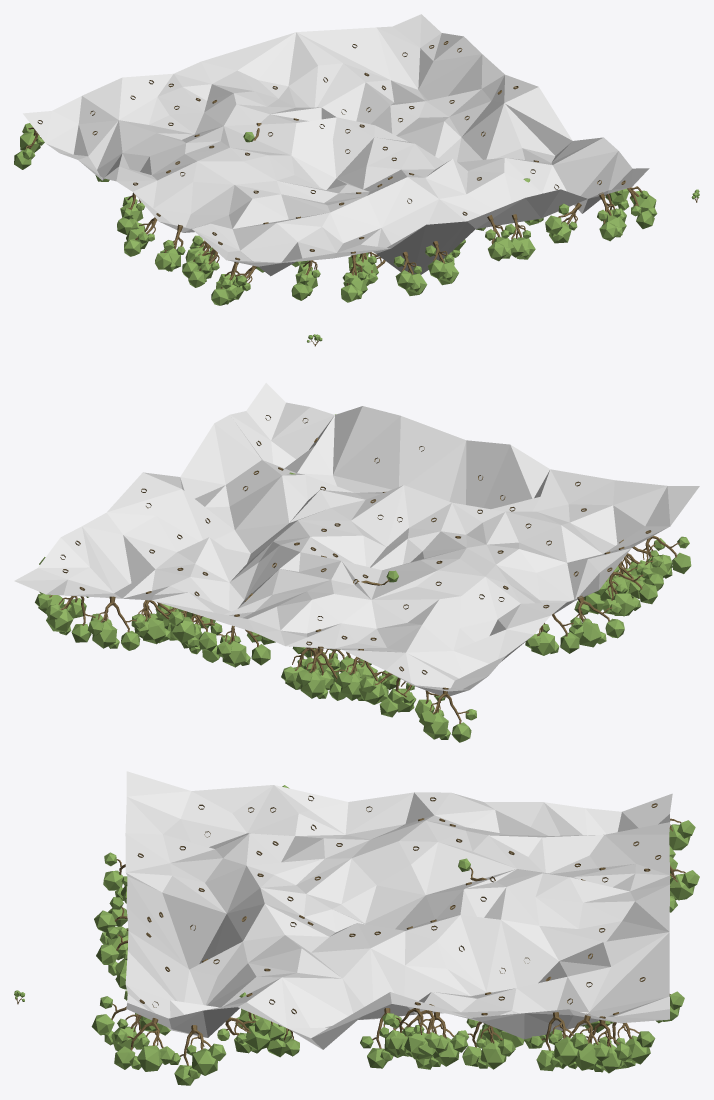
Rendered from terrainTree.fbx.
The picture shows the model from 3 angles, top to bottom: view 1: azimuth 30°, elevation 25°; view 2: azimuth 150°, elevation 25°; view 3: azimuth 270°, elevation 25°; orthographic projection. The views are drawn at different scales.
Visible parts, largest first — view 1: Terrain2, Terrain2|Tree_lp_11|Dupli|95, Terrain2|Tree_lp_11|Dupli|93, Terrain2|Tree_lp_11|Dupli|94, Terrain2|Tree_lp_11|Dupli|97, Terrain2|Tree_lp_11|Dupli|7, Terrain2|Tree_lp_11|Dupli|58, Terrain2|Tree_lp_11|Dupli|98, Terrain2|Tree_lp_11|Dupli|88, Terrain2|Tree_lp_11|Dupli|99, Terrain2|Tree_lp_11|Dupli|66, Terrain2|Tree_lp_11|Dupli|96 (+7 smaller); view 2: Terrain2, Terrain2|Tree_lp_11|Dupli|2, Terrain2|Tree_lp_11|Dupli|7, Terrain2|Tree_lp_11|Dupli|66, Terrain2|Tree_lp_11|Dupli|58, Terrain2|Tree_lp_11|Dupli|19, Terrain2|Tree_lp_11|Dupli|16, Terrain2|Tree_lp_11|Dupli|51, Terrain2|Tree_lp_11|Dupli|17, Terrain2|Tree_lp_11|Dupli|, Terrain2|Tree_lp_11|Dupli|9, Terrain2|Tree_lp_11|Dupli|86 (+6 smaller); view 3: Terrain2, Terrain2|Tree_lp_11|Dupli|94, Terrain2|Tree_lp_11|Dupli|27, Terrain2|Tree_lp_11|Dupli|87, Terrain2|Tree_lp_11|Dupli|34, Terrain2|Tree_lp_11|Dupli|98, Terrain2|Tree_lp_11|Dupli|79, Terrain2|Tree_lp_11|Dupli|52, Terrain2|Tree_lp_11|Dupli|16, Terrain2|Tree_lp_11|Dupli|20, Terrain2|Tree_lp_11|Dupli|44, Terrain2|Tree_lp_11|Dupli|45 (+8 smaller).
Boxes of the visible parts, x1,y1,x2,y2 form: Terrain2: (23, 14, 649, 276); Terrain2|Tree_lp_11|Dupli|95: (545, 203, 581, 243); Terrain2|Tree_lp_11|Dupli|93: (393, 251, 427, 295); Terrain2|Tree_lp_11|Dupli|94: (621, 180, 657, 228); Terrain2|Tree_lp_11|Dupli|97: (425, 241, 458, 285); Terrain2|Tree_lp_11|Dupli|7: (14, 120, 44, 169); Terrain2|Tree_lp_11|Dupli|58: (124, 213, 160, 256); Terrain2|Tree_lp_11|Dupli|98: (597, 192, 626, 241); Terrain2|Tree_lp_11|Dupli|88: (291, 249, 320, 300); Terrain2|Tree_lp_11|Dupli|99: (341, 251, 367, 302); Terrain2|Tree_lp_11|Dupli|66: (155, 224, 185, 271); Terrain2|Tree_lp_11|Dupli|96: (485, 215, 514, 261); Terrain2: (14, 383, 699, 697); Terrain2|Tree_lp_11|Dupli|2: (87, 596, 145, 650); Terrain2|Tree_lp_11|Dupli|7: (419, 687, 476, 742); Terrain2|Tree_lp_11|Dupli|66: (602, 567, 657, 616); Terrain2|Tree_lp_11|Dupli|58: (569, 595, 624, 647); Terrain2|Tree_lp_11|Dupli|19: (168, 610, 222, 651); Terrain2|Tree_lp_11|Dupli|16: (45, 587, 102, 642); Terrain2|Tree_lp_11|Dupli|51: (525, 605, 582, 655); Terrain2|Tree_lp_11|Dupli|17: (216, 614, 270, 667); Terrain2|Tree_lp_11|Dupli|: (296, 646, 352, 700); Terrain2|Tree_lp_11|Dupli|9: (359, 666, 414, 717); Terrain2|Tree_lp_11|Dupli|86: (635, 530, 691, 578); Terrain2: (125, 771, 672, 1049); Terrain2|Tree_lp_11|Dupli|94: (114, 1018, 174, 1071); Terrain2|Tree_lp_11|Dupli|27: (529, 1012, 588, 1071); Terrain2|Tree_lp_11|Dupli|87: (169, 1025, 226, 1085); Terrain2|Tree_lp_11|Dupli|34: (456, 1013, 515, 1069); Terrain2|Tree_lp_11|Dupli|98: (91, 996, 147, 1050); Terrain2|Tree_lp_11|Dupli|79: (217, 1017, 270, 1053); Terrain2|Tree_lp_11|Dupli|52: (382, 1002, 440, 1059); Terrain2|Tree_lp_11|Dupli|16: (599, 1012, 655, 1069); Terrain2|Tree_lp_11|Dupli|20: (549, 1013, 609, 1070); Terrain2|Tree_lp_11|Dupli|44: (387, 1004, 448, 1059); Terrain2|Tree_lp_11|Dupli|45: (415, 1012, 468, 1069).
Bounding box in the file's own units: 112122 × 24561 × 126282.
